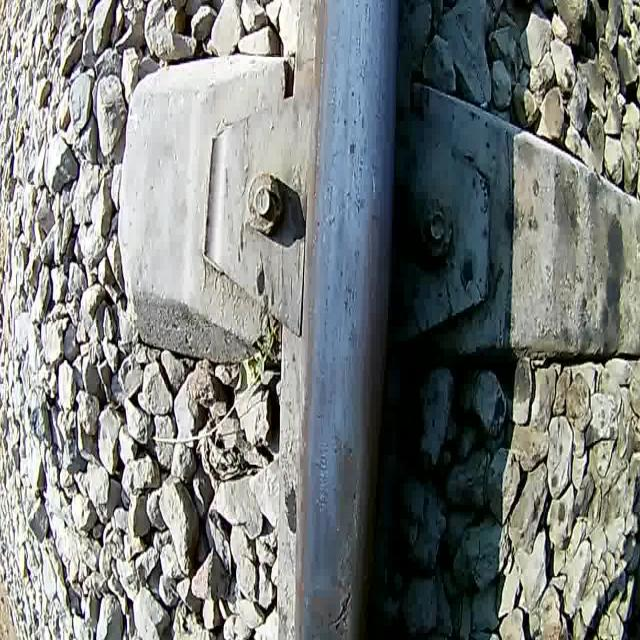Squats: (327, 427, 363, 557), (308, 578, 343, 640)
